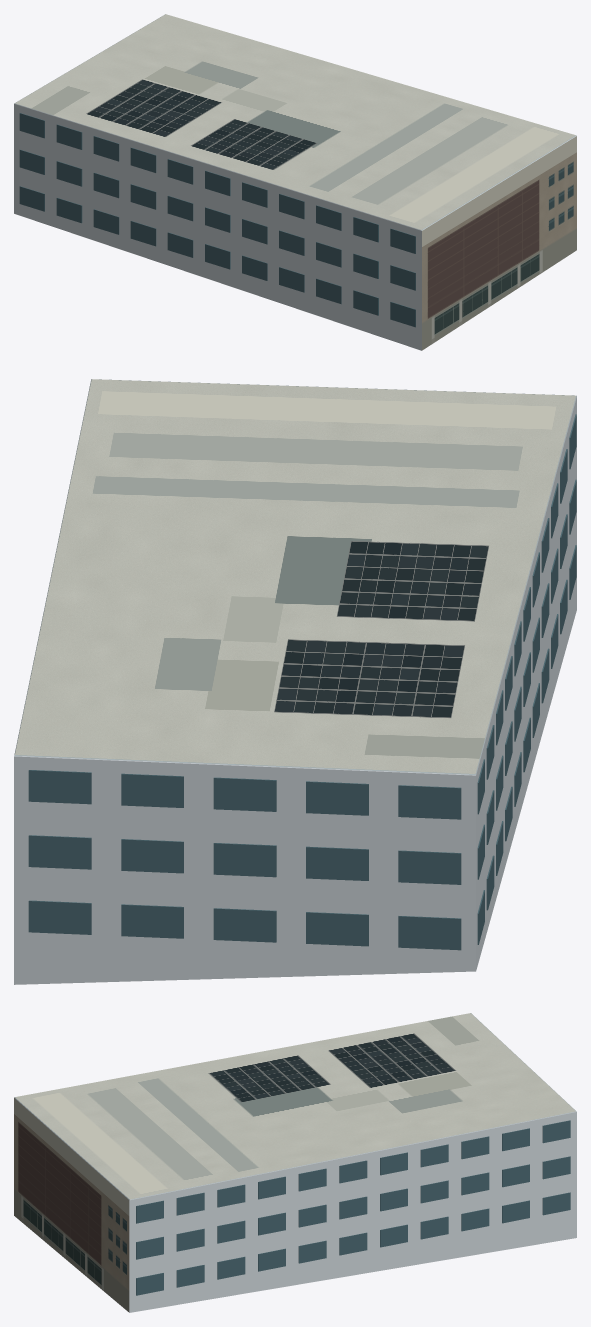
The model's file is fragments.glb.
3 views of the same model, one above another, from view 1: azimuth 30°, elevation 25°; view 2: azimuth 150°, elevation 25°; view 3: azimuth 270°, elevation 25° (orthographic). The views are drawn at different scales.
Parts seen in each view (by area): view 1: SM_nursing_Fragment_030, SM_nursing_Fragment_004, SM_nursing_Fragment_056, SM_nursing_Fragment_008, SM_nursing_Fragment_023, SM_nursing_Fragment_037, SM_nursing_Fragment_002, SM_nursing_Fragment_012, SM_nursing_Fragment_016, SM_nursing_Fragment_018, SM_nursing_Fragment_060, SM_nursing_Fragment_043 (+25 smaller); view 2: SM_nursing_Fragment_009, SM_nursing_Fragment_044, SM_nursing_Fragment_054, SM_nursing_Fragment_004, SM_nursing_Fragment_001, SM_nursing_Fragment_002, SM_nursing_Fragment_042, SM_nursing_Fragment_008, SM_nursing_Fragment_011, SM_nursing_Fragment_026, SM_nursing_Fragment_006, SM_nursing_Fragment_032 (+28 smaller); view 3: SM_nursing_Fragment_047, SM_nursing_Fragment_052, SM_nursing_Fragment_042, SM_nursing_Fragment_003, SM_nursing_Fragment_046, SM_nursing_Fragment_006, SM_nursing_Fragment_059, SM_nursing_Fragment_034, SM_nursing_Fragment_012, SM_nursing_Fragment_005, SM_nursing_Fragment_020, SM_nursing_Fragment_004 (+28 smaller).
Boxes of the visible parts, x1,y1,x2,y2 form: SM_nursing_Fragment_030: (213,154,318,260); SM_nursing_Fragment_004: (302,168,420,267); SM_nursing_Fragment_056: (338,210,429,327); SM_nursing_Fragment_008: (14,92,117,186); SM_nursing_Fragment_023: (144,180,230,282); SM_nursing_Fragment_037: (93,120,183,215); SM_nursing_Fragment_002: (167,120,291,199); SM_nursing_Fragment_012: (474,144,560,249); SM_nursing_Fragment_016: (394,190,467,296); SM_nursing_Fragment_018: (80,172,156,260); SM_nursing_Fragment_060: (257,241,341,320); SM_nursing_Fragment_043: (419,174,504,280); SM_nursing_Fragment_009: (14,730,194,904); SM_nursing_Fragment_044: (194,739,374,903); SM_nursing_Fragment_054: (340,735,478,918); SM_nursing_Fragment_004: (381,431,563,603); SM_nursing_Fragment_001: (183,835,327,979); SM_nursing_Fragment_002: (358,548,530,676); SM_nursing_Fragment_042: (33,570,210,664); SM_nursing_Fragment_008: (367,691,497,844); SM_nursing_Fragment_011: (161,610,382,683); SM_nursing_Fragment_026: (214,544,396,628); SM_nursing_Fragment_006: (72,390,241,482); SM_nursing_Fragment_032: (86,656,248,753); SM_nursing_Fragment_047: (113,1184,245,1287); SM_nursing_Fragment_052: (461,1100,576,1187); SM_nursing_Fragment_042: (339,1109,465,1190); SM_nursing_Fragment_003: (290,1142,387,1246); SM_nursing_Fragment_046: (380,1135,489,1230); SM_nursing_Fragment_006: (126,1152,245,1221); SM_nursing_Fragment_059: (237,1149,334,1215); SM_nursing_Fragment_034: (292,1219,392,1284); SM_nursing_Fragment_012: (68,1143,136,1242); SM_nursing_Fragment_005: (458,1179,529,1256); SM_nursing_Fragment_020: (89,1214,174,1312); SM_nursing_Fragment_004: (68,1072,185,1122).
Bounding box in the file's own units: 1.73 × 0.5459 × 2.2.
Materials: 6 (2 with a texture image).
